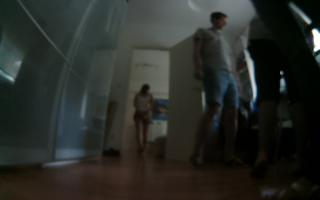person: (266, 1, 320, 200), (245, 10, 303, 163), (128, 81, 159, 162)
